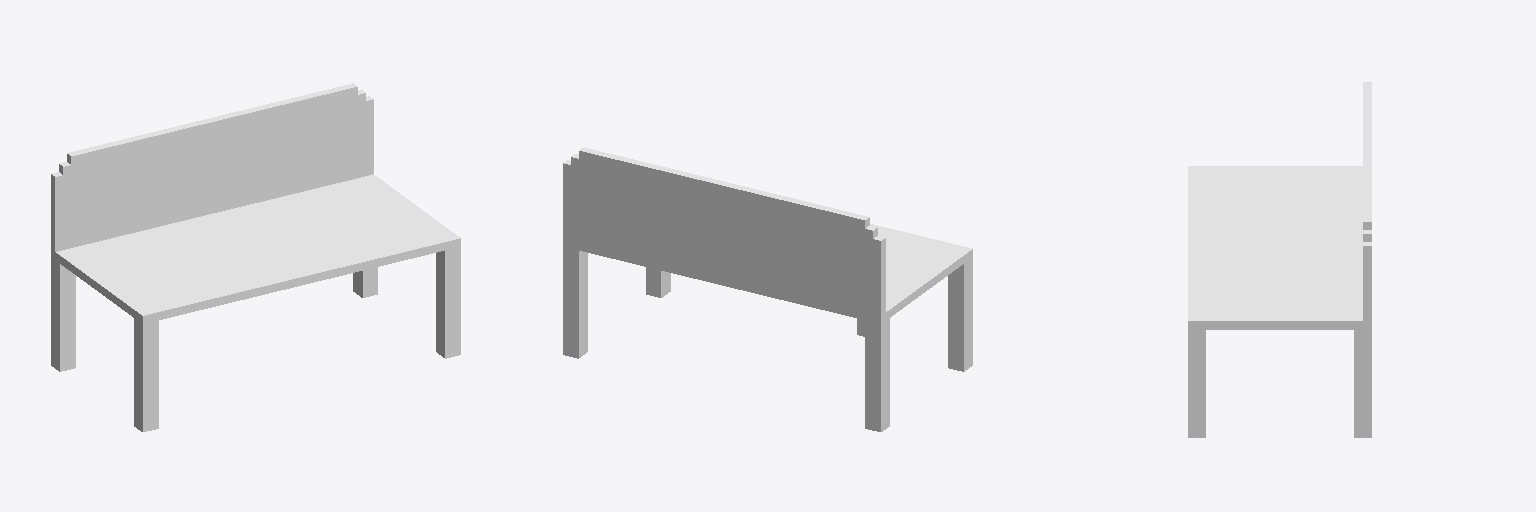
The model's file is laz_table_nolaptop_40_20_25.obj.
3 views of the same model, side by side, from view 1: azimuth 30°, elevation 25°; view 2: azimuth 150°, elevation 25°; view 3: azimuth 270°, elevation 25° (orthographic).
Parts seen in each view (by area): view 1: object 1; view 2: object 1; view 3: object 1.
Boxes of the visible parts, x1,y1,x2,y2 form: object 1: [51, 83, 460, 431]; object 1: [563, 147, 972, 431]; object 1: [1188, 82, 1371, 437].
Bounding box in the file's own units: 4 × 2.5 × 2.